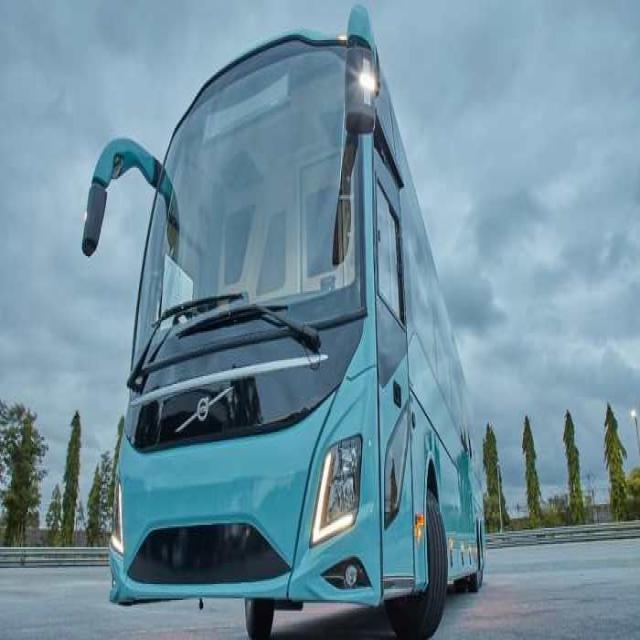bus: (82, 9, 484, 638)
